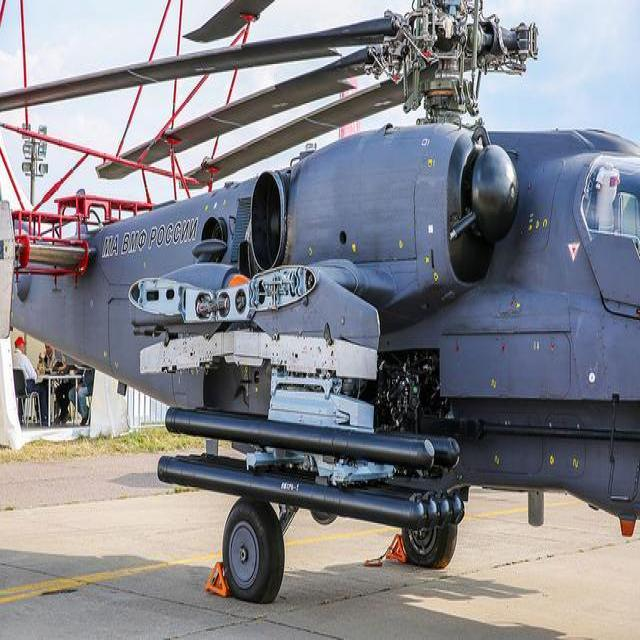MIL_HELO: (4, 11, 630, 603)
